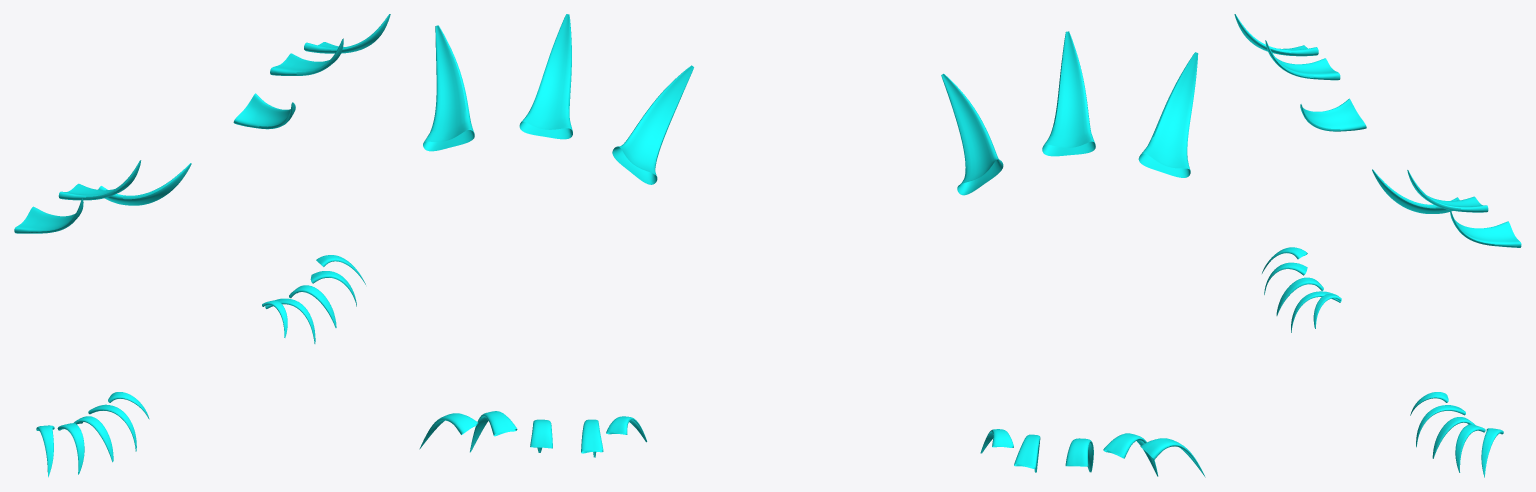
3 renders of one model, left to right at view 1: azimuth 30°, elevation 25°; view 2: azimuth 150°, elevation 25°; view 3: azimuth 270°, elevation 25°, orthographic. The views are drawn at different scales.
Parts seen in each view (by area): view 1: face_decoration_02; view 2: face_decoration_02; view 3: face_decoration_02.
Part boxes in pixels (x1,y1,x2,y2): face_decoration_02: (14,14,390,477); face_decoration_02: (419,14,1205,477); face_decoration_02: (1234,14,1521,477).
Size of the model in its own units: 58.48 by 33.68 by 37.4.
